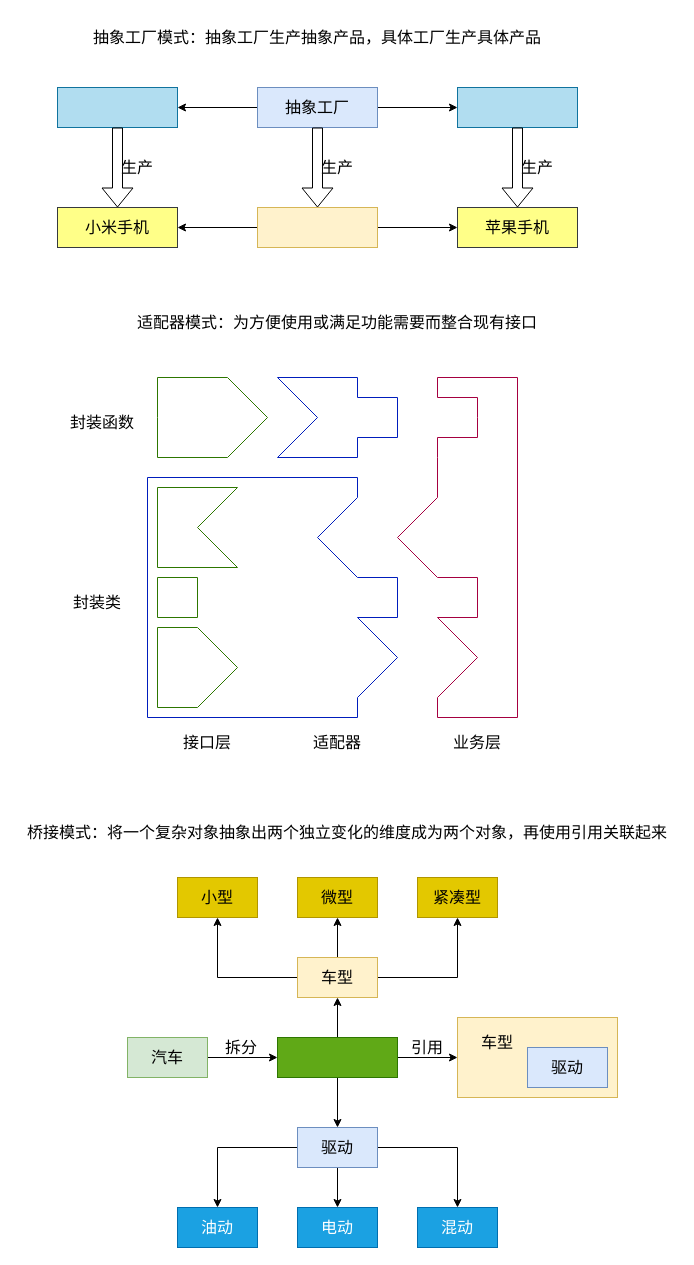
Image size: 694x1265. Some labels were removed from this diagram. The shapes that lost their labels are listed below. From the top down, each one's centre as x and y in pixels, then its label:
(117,107): 小米工厂
(517,107): 苹果工厂
(317,227): 抽象产品-手机
(337,1057): 车型+驱动
